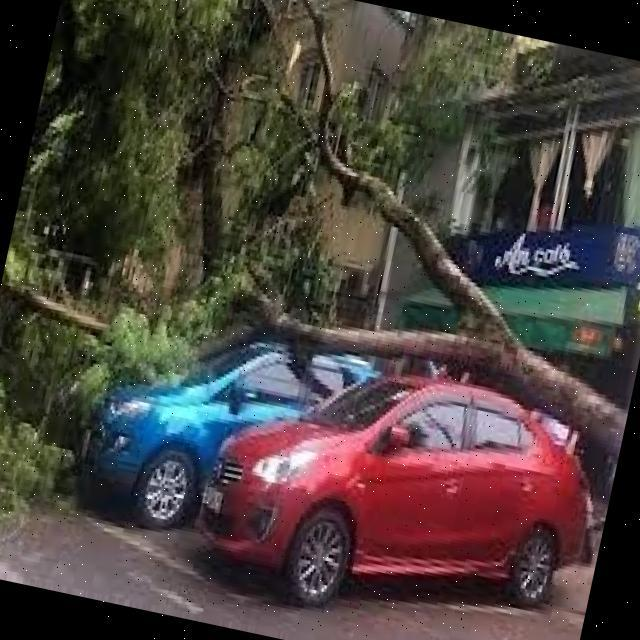fallen_object: (201, 105, 640, 478), (0, 251, 197, 392)
